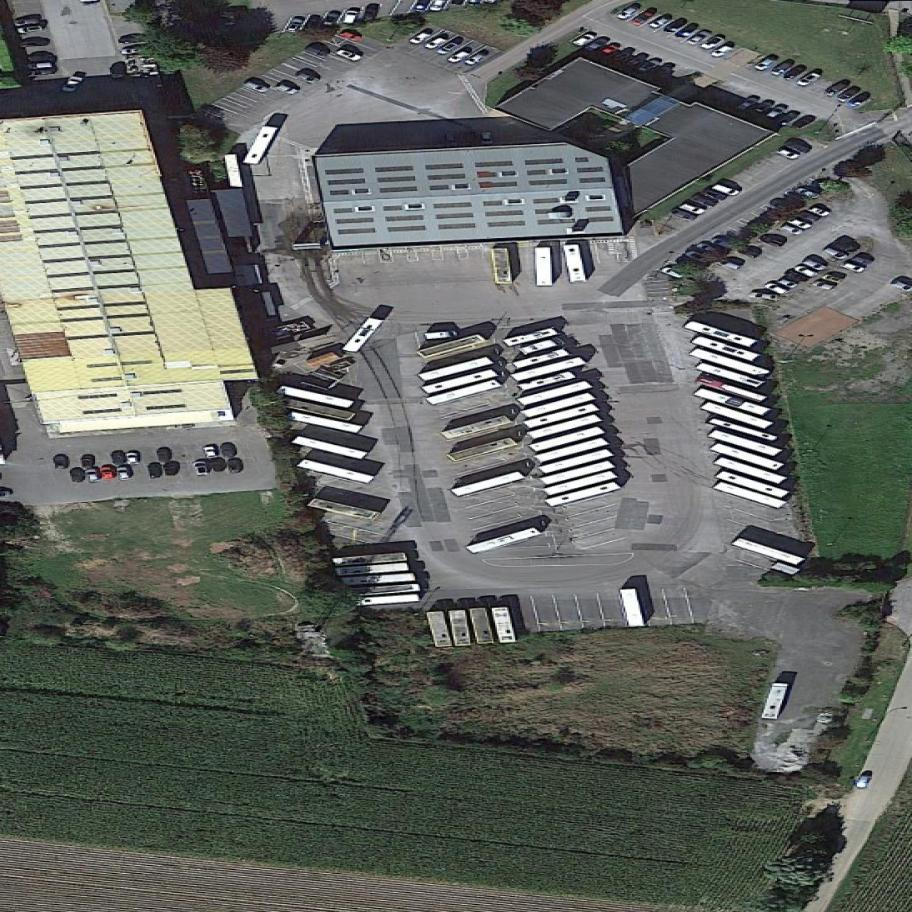large-vehicle: (690, 347, 772, 380), (465, 525, 544, 556), (710, 441, 785, 473), (732, 536, 809, 567), (714, 480, 790, 511), (534, 435, 612, 465), (542, 469, 620, 499), (695, 387, 772, 417), (520, 391, 597, 421), (523, 401, 600, 431), (425, 378, 504, 407), (683, 319, 759, 349), (717, 469, 790, 500), (529, 425, 607, 454), (537, 447, 615, 476), (709, 429, 784, 459), (420, 368, 500, 396), (517, 379, 594, 408), (527, 412, 604, 441), (697, 373, 769, 404), (715, 456, 789, 486), (510, 356, 589, 384), (298, 458, 377, 486), (545, 481, 624, 509), (702, 401, 774, 431), (450, 470, 527, 498), (418, 355, 495, 383), (440, 414, 514, 443), (283, 409, 365, 435), (447, 435, 519, 464), (417, 332, 489, 361), (277, 396, 357, 422), (275, 384, 355, 410), (340, 313, 385, 359), (695, 361, 765, 390), (292, 435, 370, 461), (307, 496, 382, 523), (707, 415, 779, 443), (692, 335, 762, 363), (242, 121, 278, 170), (510, 347, 572, 371), (517, 370, 577, 394), (503, 326, 562, 348), (332, 552, 407, 568), (335, 562, 410, 577), (764, 679, 790, 722), (469, 605, 495, 647), (520, 334, 567, 357), (622, 586, 647, 629), (427, 609, 453, 650), (492, 604, 517, 646), (343, 573, 417, 587), (564, 243, 587, 286), (352, 594, 422, 607), (350, 584, 422, 596), (450, 609, 472, 648), (223, 152, 243, 190), (494, 249, 514, 285), (537, 248, 554, 286)
small-vehicle: (58, 67, 88, 100), (778, 59, 812, 86), (817, 76, 852, 102), (672, 17, 704, 45), (660, 13, 694, 39), (581, 31, 614, 57), (845, 86, 875, 113), (707, 38, 738, 64), (633, 54, 664, 80), (697, 30, 729, 55), (770, 107, 803, 131), (613, 0, 644, 25), (665, 204, 700, 226), (732, 91, 764, 115), (282, 9, 308, 38), (834, 82, 863, 108), (794, 66, 825, 90), (607, 44, 639, 67), (290, 67, 325, 88), (782, 137, 815, 159), (685, 25, 714, 50), (682, 246, 716, 267), (407, 26, 438, 49), (799, 253, 831, 275), (764, 277, 792, 302), (752, 51, 780, 76), (433, 36, 462, 60), (332, 45, 365, 66), (445, 45, 475, 68), (657, 262, 689, 283), (240, 75, 272, 96), (624, 48, 652, 72), (570, 29, 599, 52), (298, 42, 333, 61), (685, 191, 720, 210), (771, 144, 804, 164), (819, 242, 850, 263), (301, 9, 325, 36), (630, 5, 657, 29), (708, 180, 742, 199), (762, 100, 790, 123), (769, 57, 797, 80), (420, 33, 450, 54), (789, 112, 819, 133), (792, 261, 822, 282), (318, 7, 342, 33), (340, 4, 363, 31), (464, 48, 491, 71), (757, 231, 788, 251), (695, 238, 726, 258), (750, 96, 779, 117), (647, 12, 676, 33), (268, 79, 300, 98), (794, 184, 826, 203), (336, 27, 367, 46), (775, 220, 807, 238), (784, 213, 814, 232), (595, 40, 622, 61), (773, 275, 804, 293), (698, 187, 730, 204), (675, 200, 707, 217), (837, 259, 869, 276), (709, 235, 739, 252), (854, 770, 875, 794), (805, 203, 834, 220), (795, 207, 822, 224), (810, 277, 837, 294), (747, 289, 782, 302), (714, 257, 744, 272), (734, 244, 762, 259), (422, 330, 460, 341), (362, 2, 380, 25), (850, 254, 877, 269), (192, 460, 213, 479), (820, 271, 846, 286), (12, 16, 43, 28), (83, 468, 103, 485), (15, 24, 45, 35), (108, 450, 127, 466), (20, 38, 50, 48), (162, 462, 182, 477), (220, 442, 237, 459), (118, 36, 150, 45), (115, 466, 133, 482), (210, 457, 228, 473), (98, 466, 117, 481), (27, 61, 55, 71), (52, 455, 70, 470), (70, 469, 87, 484), (30, 68, 58, 77), (27, 54, 57, 62), (147, 464, 163, 479), (228, 458, 243, 474), (157, 448, 173, 463), (202, 446, 220, 459), (479, 132, 495, 146), (443, 134, 460, 147), (125, 452, 140, 466), (82, 453, 95, 469), (120, 48, 149, 55)
